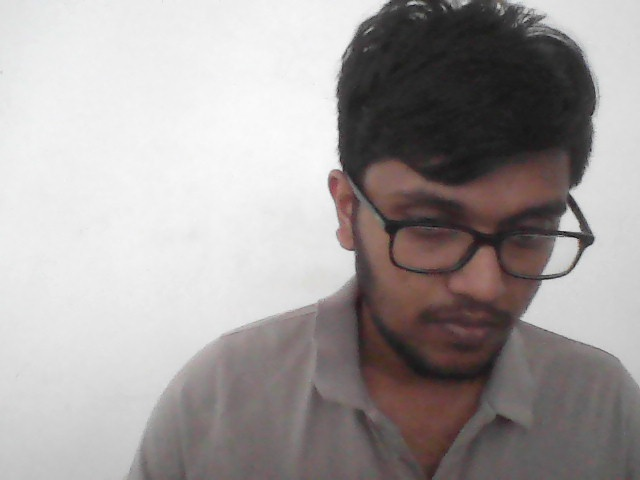lower level: (331, 1, 600, 385)
